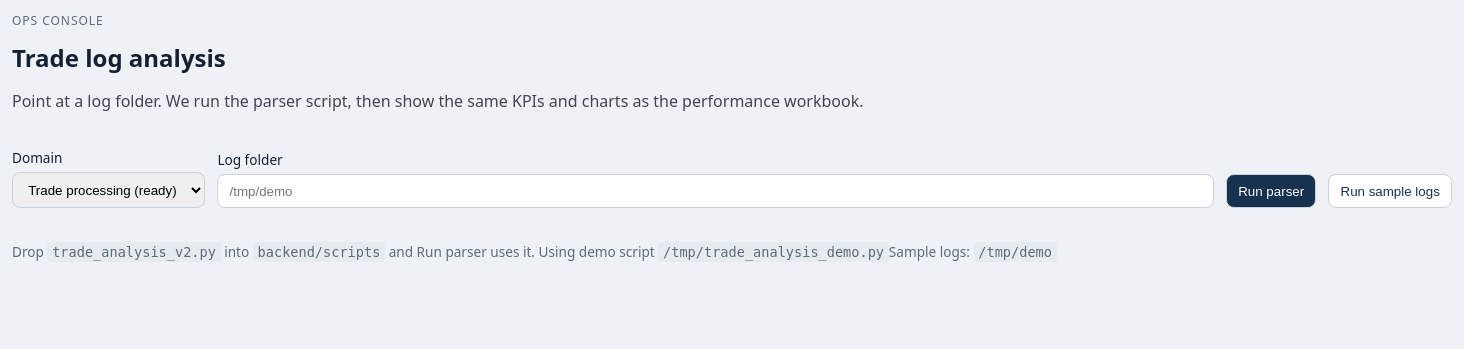
Scenario: OverviewComponent › requires a folder path before analyze
The width and height of the screenshot is (1464, 349).
Click the button with test id "analyze": {"x": 1271, "y": 191} top-left (1226, 174), bottom-right (1316, 208)
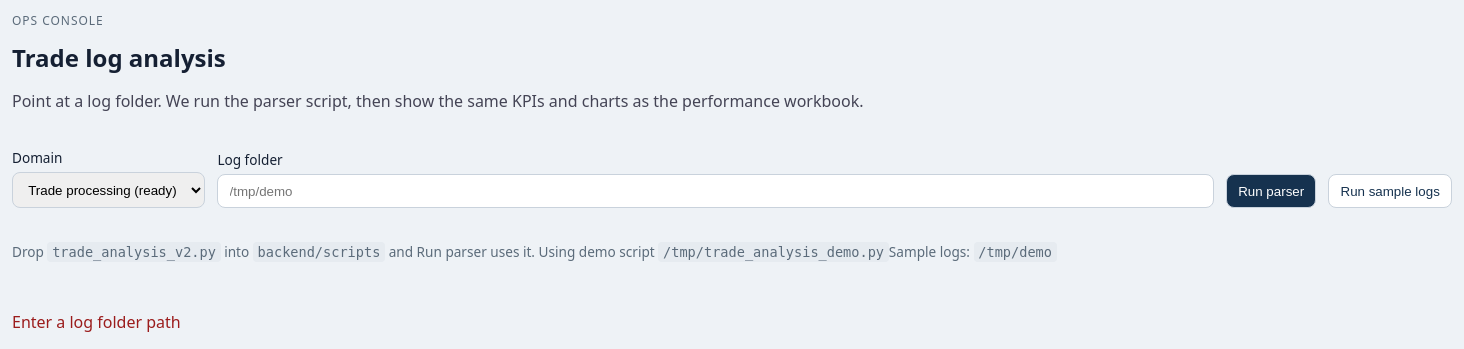
Expected: the text with test id "error" shows "Enter a log folder", top-left (12, 311), bottom-right (181, 333)
